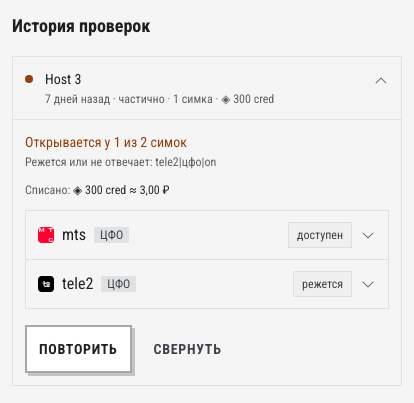
it: RecentJobs › раскрытие: ответ словами, «Повторить» ведёт в форму, «Свернуть» закрывает
Expected: the text "Открывается у 1 из 2 симок" is shown, [25,134,187,150]
Expected: the text "Режется или не отвечает: tele2|цфо|on" is shown, [25,155,216,169]
What coordinates should you click on to do the following:
click the button "Свернуть"
I would click on:
 (188, 349)
Its box is [140,325,236,373].
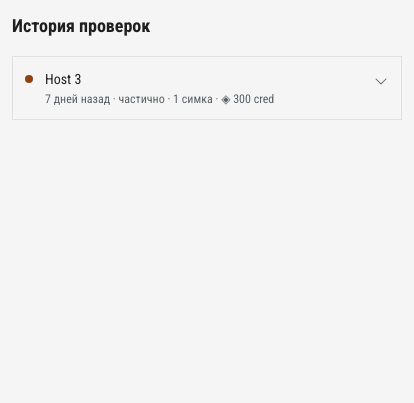
Now the text "Открывается у 1 из 2 симок" is gone
